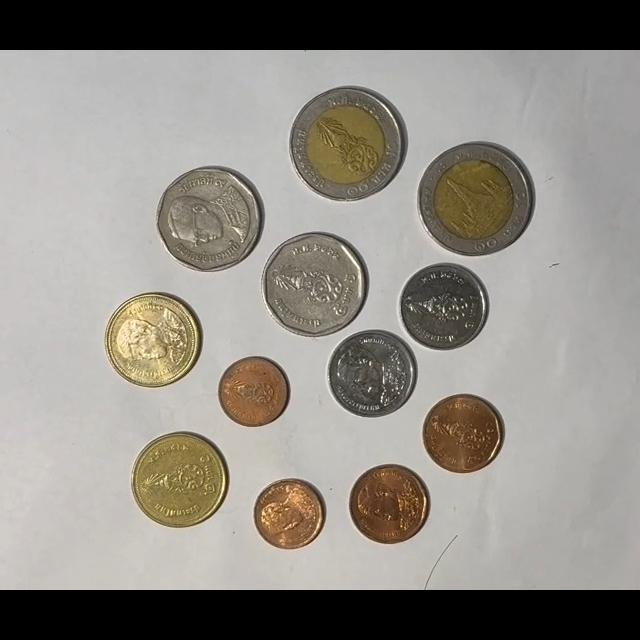1-baht: (327, 329, 417, 419), (399, 263, 490, 352)
10-baht: (289, 86, 408, 204), (417, 141, 534, 256)
2-baht: (131, 431, 229, 529), (105, 293, 200, 389)
25-satang: (252, 478, 325, 551), (218, 356, 289, 427)
5-baht: (156, 166, 264, 272), (261, 232, 368, 338)
50-satang: (422, 393, 504, 473), (349, 465, 430, 545)
